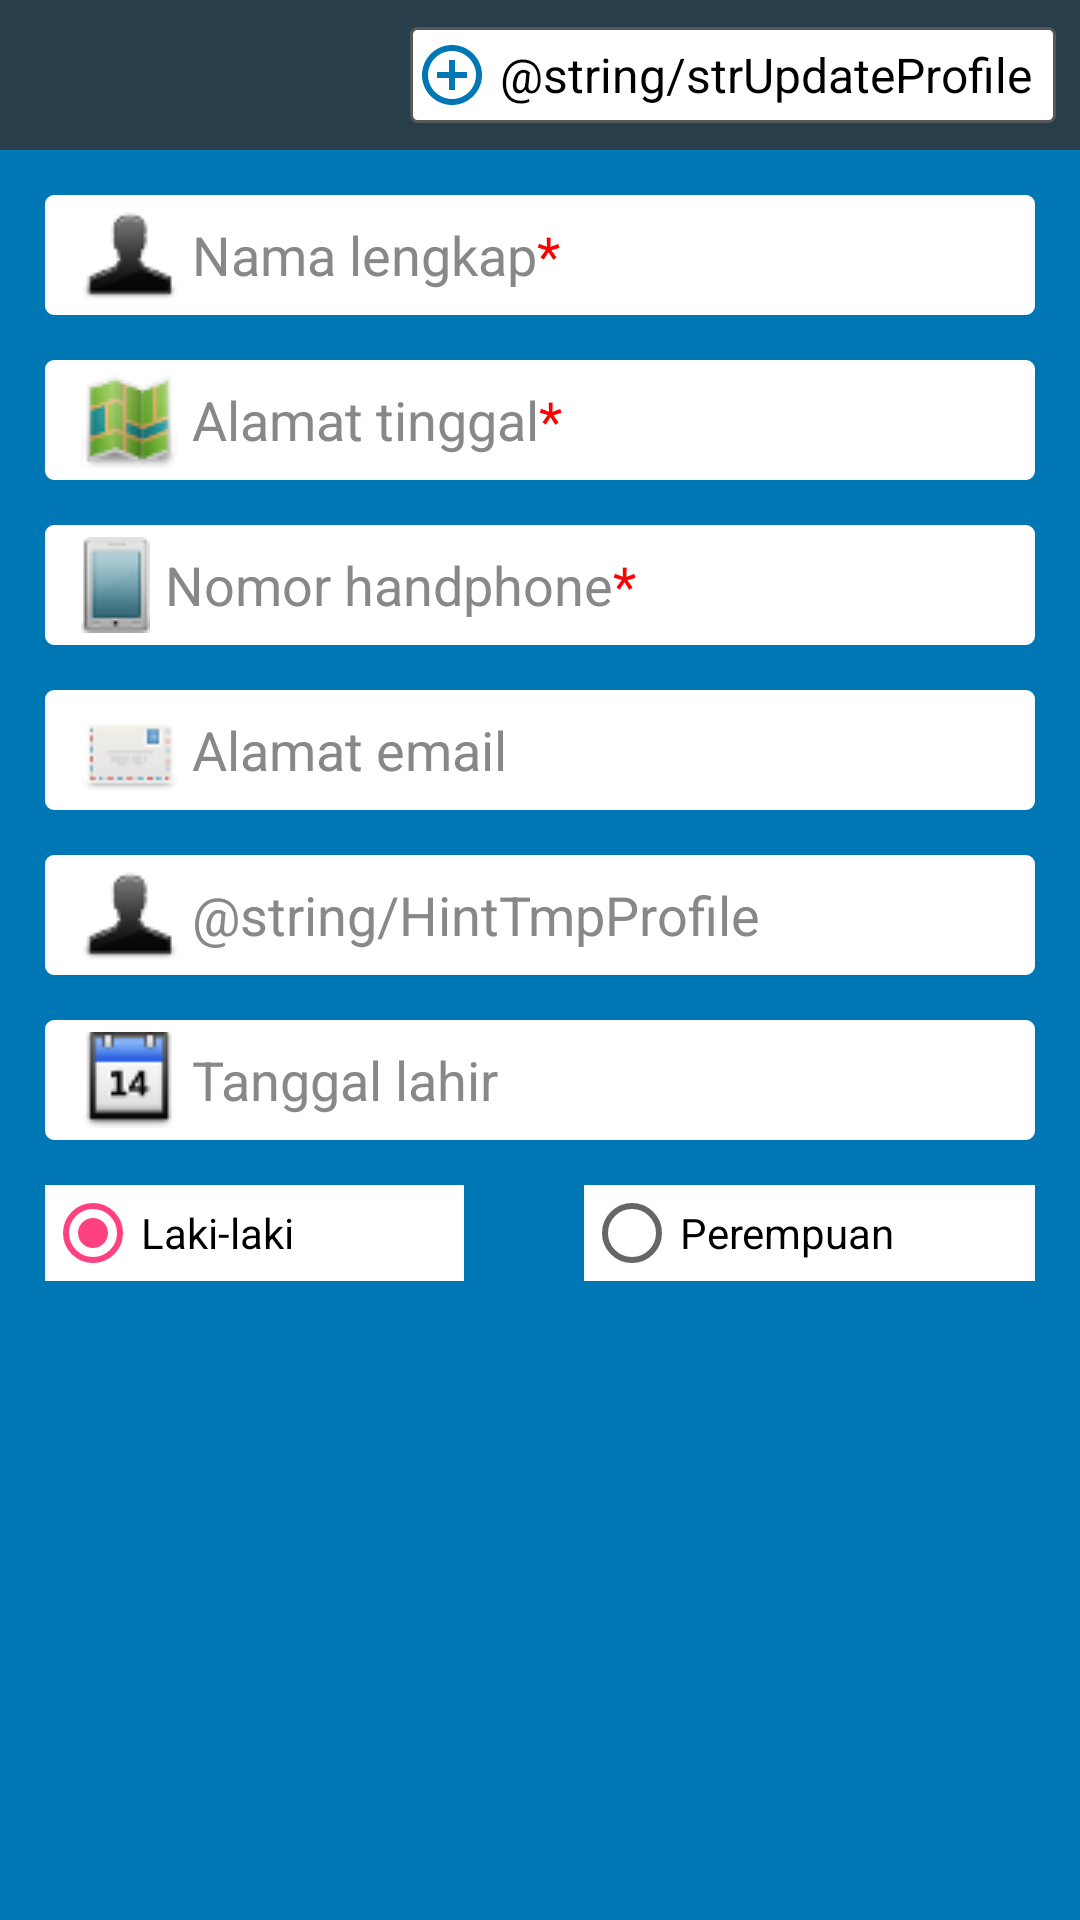

Icons on this 1080px x 1920px Android screen, each with the point to tap as point (x, y):
sign plus: point (452, 75)
